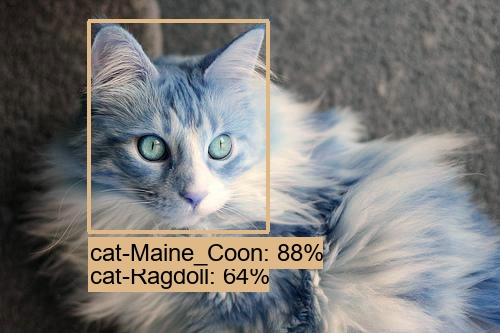cat-Maine_Coon: (88, 22, 265, 228)
